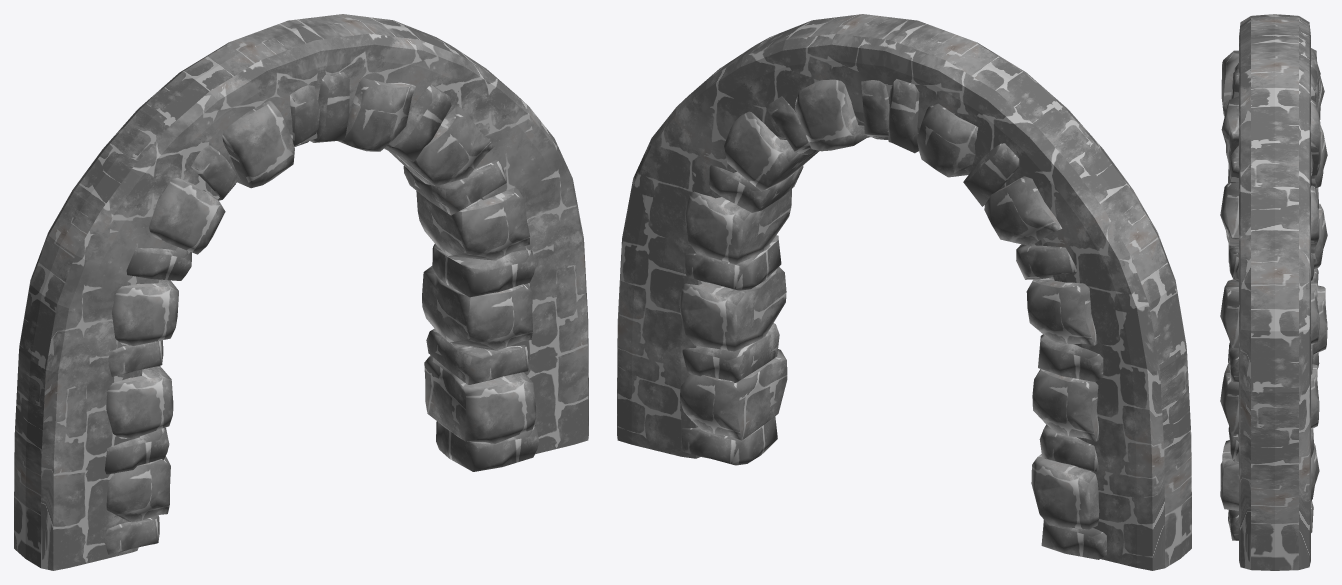
File: StoneGateSmall.fbx
3 views of the same model, side by side, from view 1: azimuth 30°, elevation 25°; view 2: azimuth 150°, elevation 25°; view 3: azimuth 270°, elevation 25° (orthographic). The views are drawn at different scales.
Visible parts, largest first — view 1: StoneGateSmall; view 2: StoneGateSmall; view 3: StoneGateSmall.
Part boxes in pixels (x1,y1,x2,y2): StoneGateSmall: [14, 14, 588, 570]; StoneGateSmall: [617, 14, 1191, 570]; StoneGateSmall: [1220, 14, 1327, 570].
Bounding box in the file's own units: 5.56 × 4.5 × 1.05.
